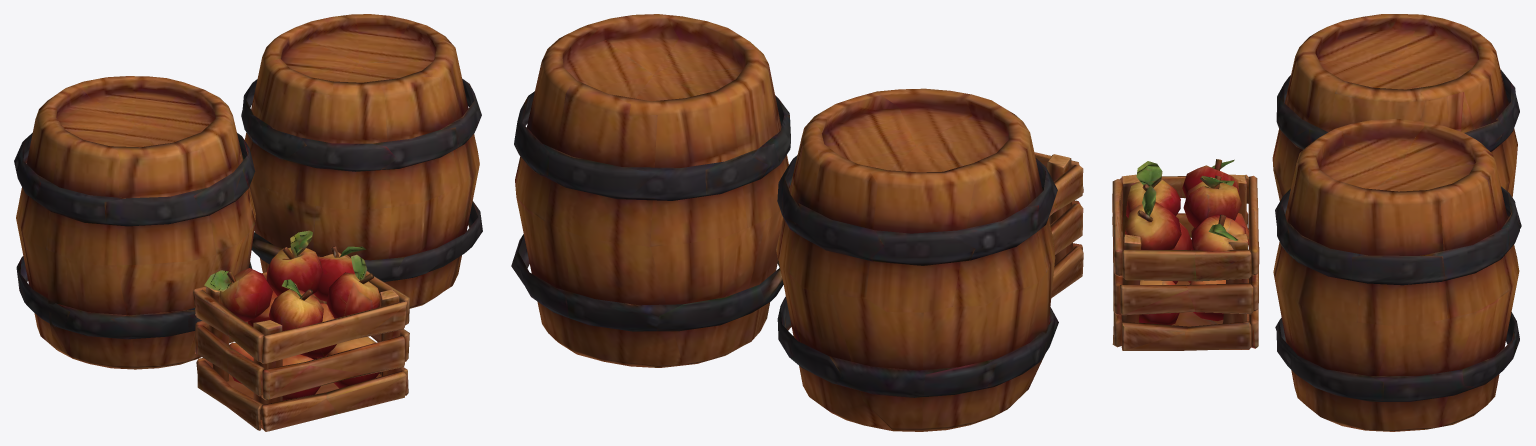
Rendered from cozy-barrels.glb.
3 views of the same model, side by side, from view 1: azimuth 30°, elevation 25°; view 2: azimuth 150°, elevation 25°; view 3: azimuth 270°, elevation 25° (orthographic). The views are drawn at different scales.
Size of the model in its own units: 1.99 by 0.9999 by 1.56.
1 material, 1 textured.
